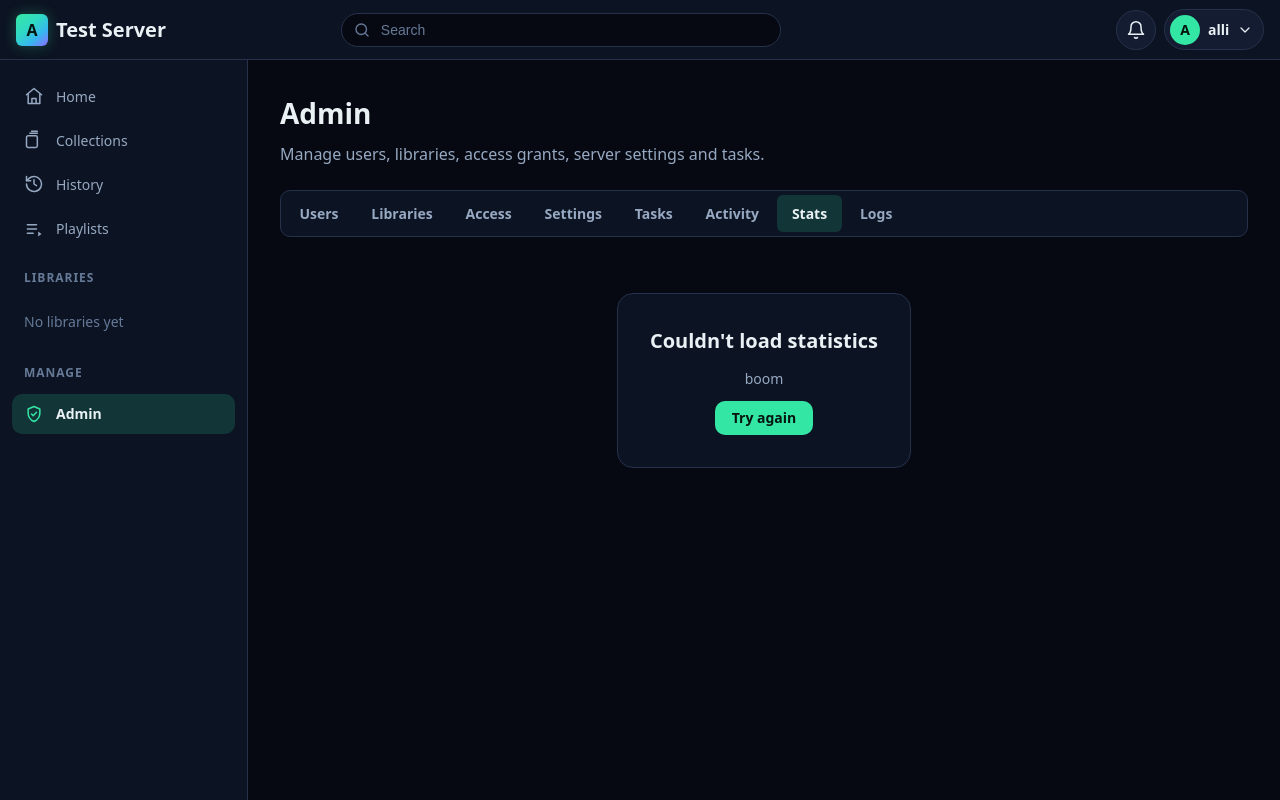
Test: AdminStatsPage › surfaces an error with a retry
Check: the heading "Couldn't load statistics" is shown, box [650,326,878,356]
What coordinates should you click on to do the following:
click the button "Try again"
I would click on:
 (764, 418)
Its box is [715,401,813,435].
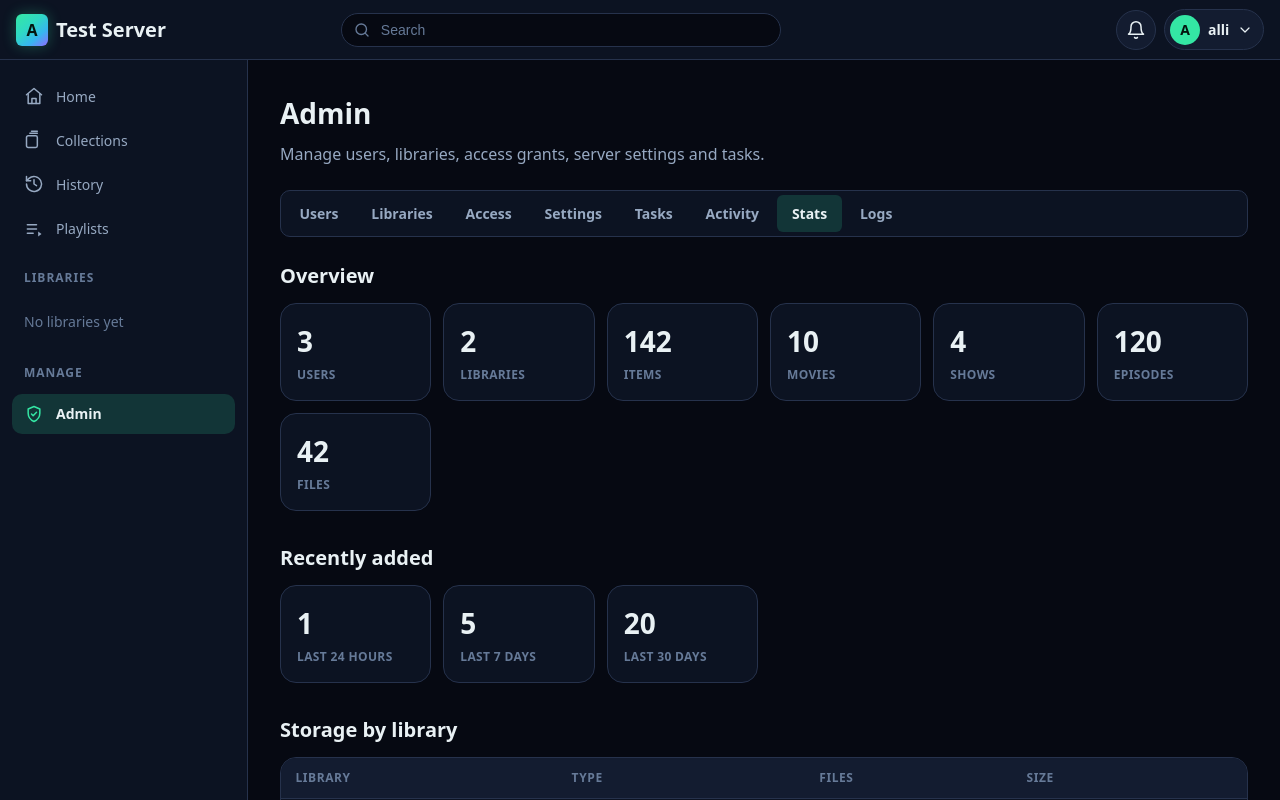
Check: the heading "Overview" is shown, box [280,262,374,289]
